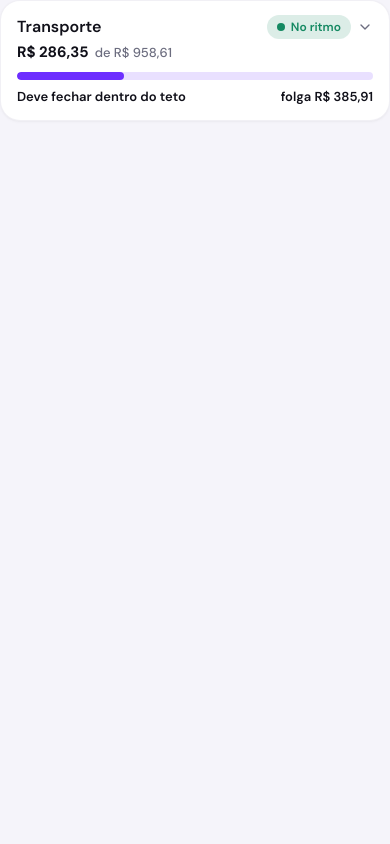
Scenario: dentro do card da meta › o card compacto só mostra o gráfico depois de abrir
Expected: the text "Como a meta fecha" is not shown
Click the button with aria-label "Detalhes e ações". click: (59, 26)
box: [1, 1, 389, 120]
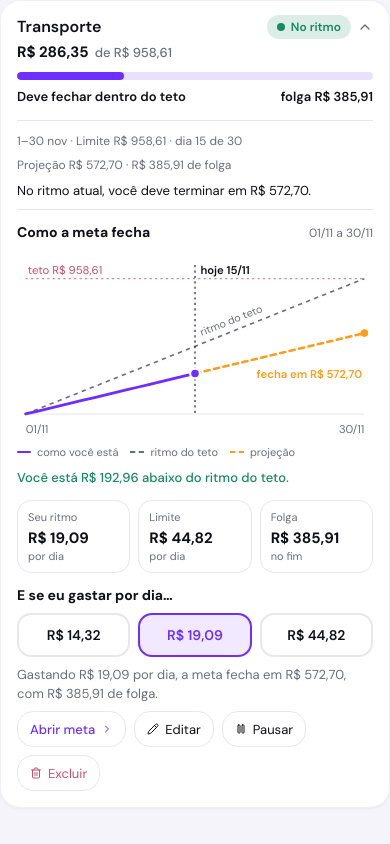
Result: the heading "Como a meta fecha" is shown at [17, 222, 150, 242]
Result: the picture named "Gasto acumulado da meta" is shown at [17, 250, 373, 440]
